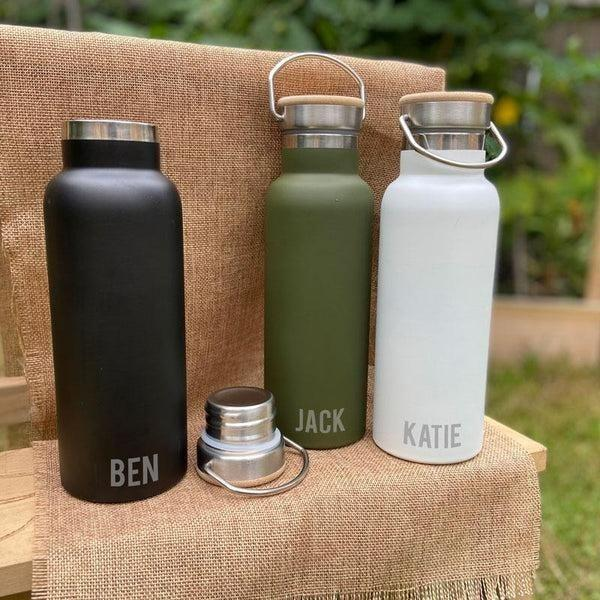gym bottle: (41, 115, 189, 507), (371, 88, 508, 465), (260, 52, 376, 450)
